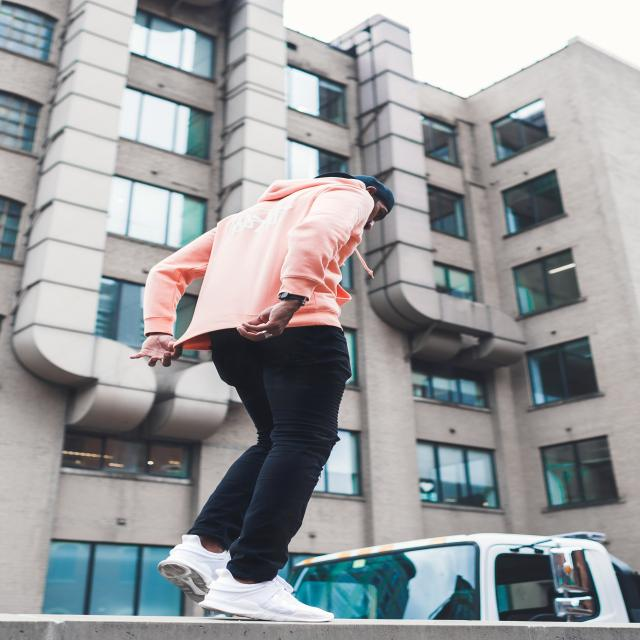adult: (127, 167, 400, 630)
